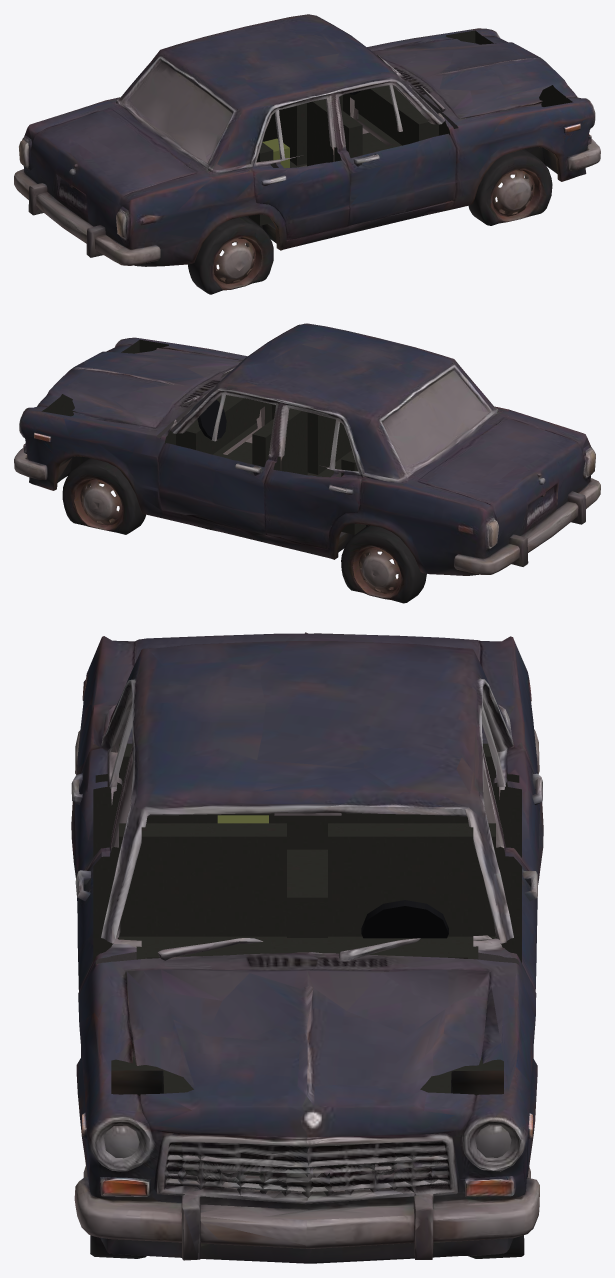
Rendered from car_abandoned_sedan.glb.
3 views of the same model, one above another, from view 1: azimuth 30°, elevation 25°; view 2: azimuth 150°, elevation 25°; view 3: azimuth 270°, elevation 25° (orthographic). The views are drawn at different scales.
Parts seen in each view (by area): view 1: body, trunk, hood, door_front_2, door_front_1, wheel_3, wheel_1; view 2: body, trunk, hood, door_back_2, door_back_1, wheel_4, wheel_2; view 3: body, hood, trunk, door_front_2, door_back_2, door_front_1, door_back_1.
Part boxes in pixels (<box>): body: <box>14,14,600,294</box>; trunk: <box>25,99,218,211</box>; hood: <box>367,33,556,132</box>; door_front_2: <box>336,78,458,225</box>; door_front_1: <box>269,94,349,241</box>; wheel_3: <box>486,150,548,222</box>; wheel_1: <box>207,219,270,290</box>; body: <box>14,323,600,603</box>; trunk: <box>396,409,589,520</box>; hood: <box>57,342,247,441</box>; door_back_2: <box>156,388,278,534</box>; door_back_1: <box>265,403,345,551</box>; wheel_4: <box>63,458,125,530</box>; wheel_2: <box>342,525,404,598</box>; body: <box>71,641,543,1263</box>; hood: <box>91,938,522,1107</box>; trunk: <box>84,632,530,735</box>; door_front_2: <box>75,751,136,1057</box>; door_back_2: <box>478,756,537,1057</box>; door_front_1: <box>72,682,132,876</box>; door_back_1: <box>481,683,542,874</box>.
Bounding box in the file's own units: 4.5 × 1.47 × 1.84.
7 materials, 4 textured.
